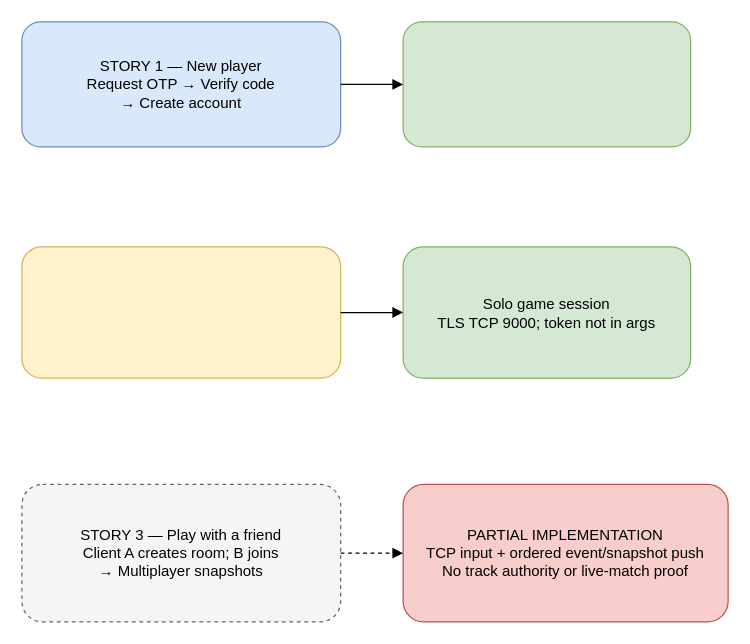
This 750x644 diagram has some shape labels left out. The centre of each missing label's shape, as x and y in pixels:
"Account stored in SQL OTP single-use / 10 min" belongs at point 546,84.
"STORY 2 — Returning player Login → Receive token → Launch Unity → Validate token" belongs at point 181,312.
